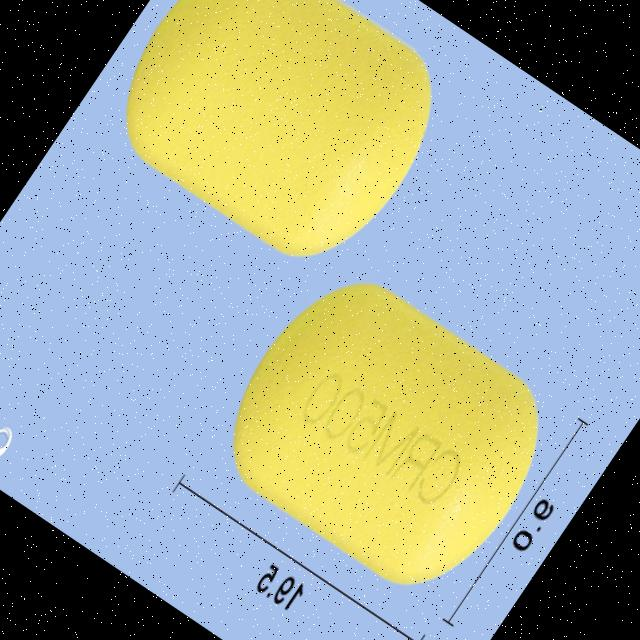Crama: (198, 250, 576, 615), (92, 0, 470, 284)
